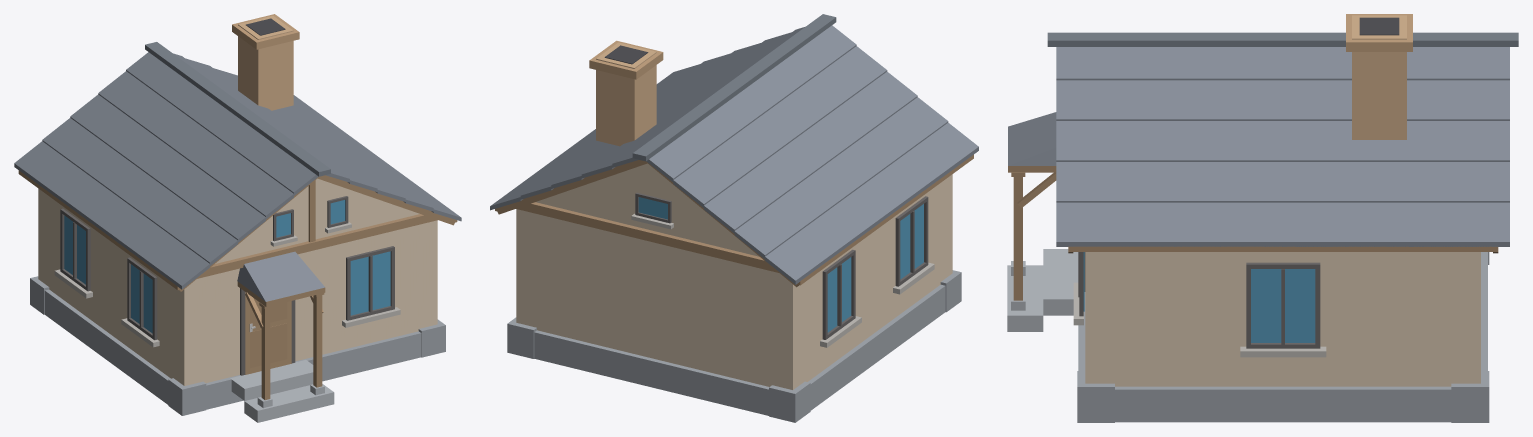
Rendered from mills q4 worker house b.fbx.
The picture shows the model from 3 angles, left to right: view 1: azimuth 30°, elevation 25°; view 2: azimuth 150°, elevation 25°; view 3: azimuth 270°, elevation 25°; orthographic projection. The views are drawn at different scales.
Visible parts, largest first — view 1: Building_Lower_Walls; view 2: Building_Lower_Walls; view 3: Building_Lower_Walls.
Boxes of the visible parts, left/top/right/bottom form: Building_Lower_Walls: left=14, top=14, right=461, bottom=422; Building_Lower_Walls: left=490, top=14, right=978, bottom=422; Building_Lower_Walls: left=1007, top=14, right=1518, bottom=422.
Size of the model in its own units: 508 by 451 by 595.
